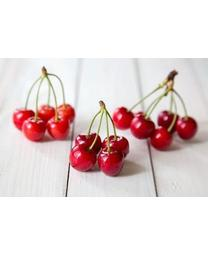cherry: (69, 144, 96, 172), (98, 149, 124, 176), (130, 114, 156, 140), (103, 134, 130, 159), (23, 116, 46, 142), (47, 116, 70, 142), (75, 134, 102, 153), (112, 106, 134, 129), (150, 128, 173, 150), (12, 108, 35, 129), (157, 110, 180, 131), (178, 116, 198, 140), (56, 105, 76, 125), (37, 104, 55, 123)
